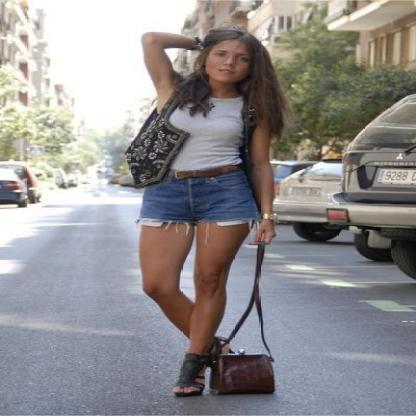bag: (210, 244, 274, 396)
jacket: (122, 96, 257, 188)
shirt: (170, 97, 242, 174)
shoe: (177, 348, 220, 396)
shorts: (140, 180, 262, 224)
